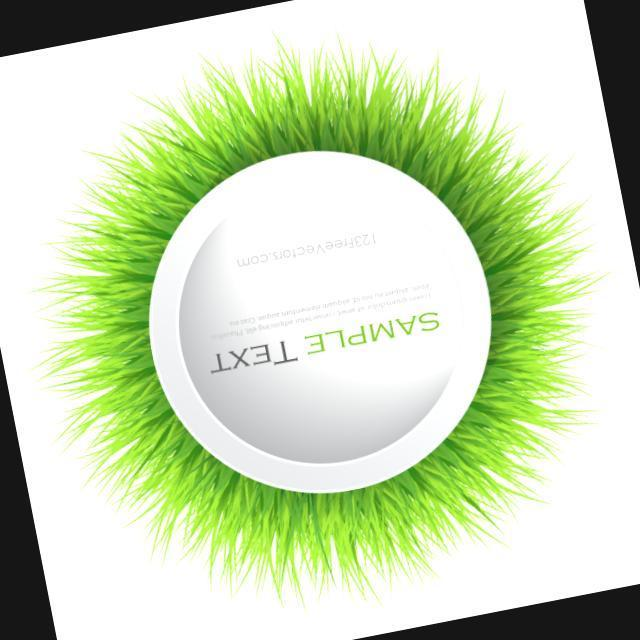green circle: (144, 144, 498, 505)
